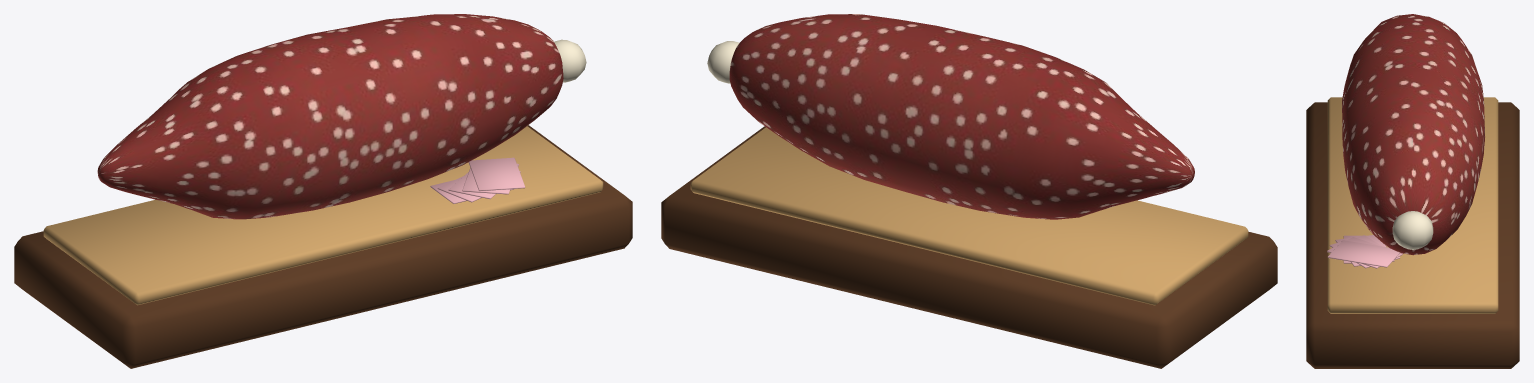
Rendered from deli_ham_leg_stand.glb.
The picture shows the model from 3 angles, left to right: view 1: azimuth 30°, elevation 25°; view 2: azimuth 150°, elevation 25°; view 3: azimuth 270°, elevation 25°; orthographic projection. The views are drawn at different scales.
Visible parts, largest first — view 1: deli_ham_leg_stand; view 2: deli_ham_leg_stand; view 3: deli_ham_leg_stand.
Part boxes in pixels (box(x1,y1,x2,y2)): deli_ham_leg_stand: box(14, 14, 632, 368); deli_ham_leg_stand: box(661, 14, 1277, 368); deli_ham_leg_stand: box(1306, 14, 1519, 368).
Size of the model in its own units: 0.505 by 0.2143 by 0.2.
Materials: 5 (1 with a texture image).
